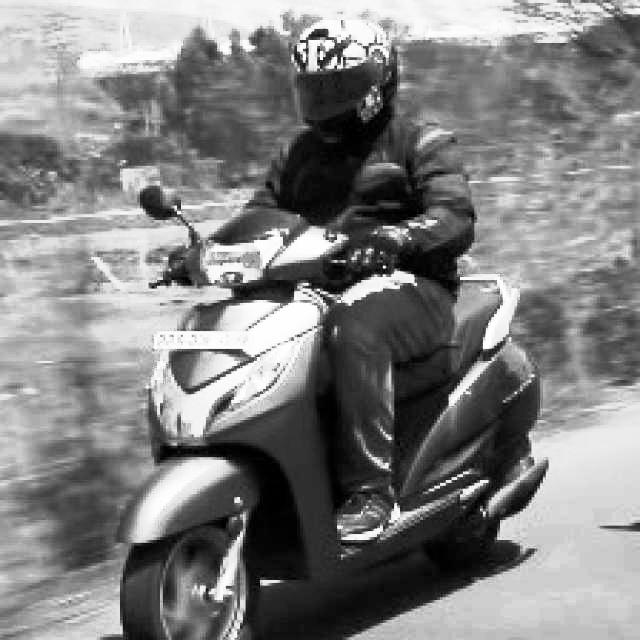Bike: (93, 209, 569, 639)
